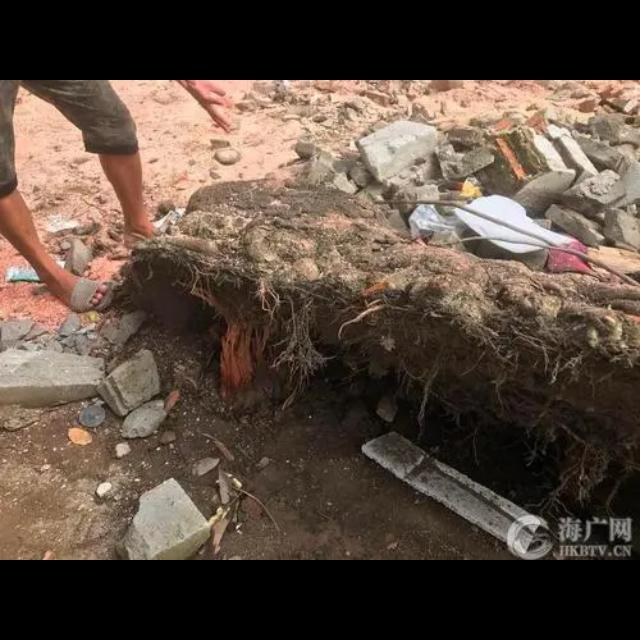fallen_tree: (167, 172, 639, 446)
